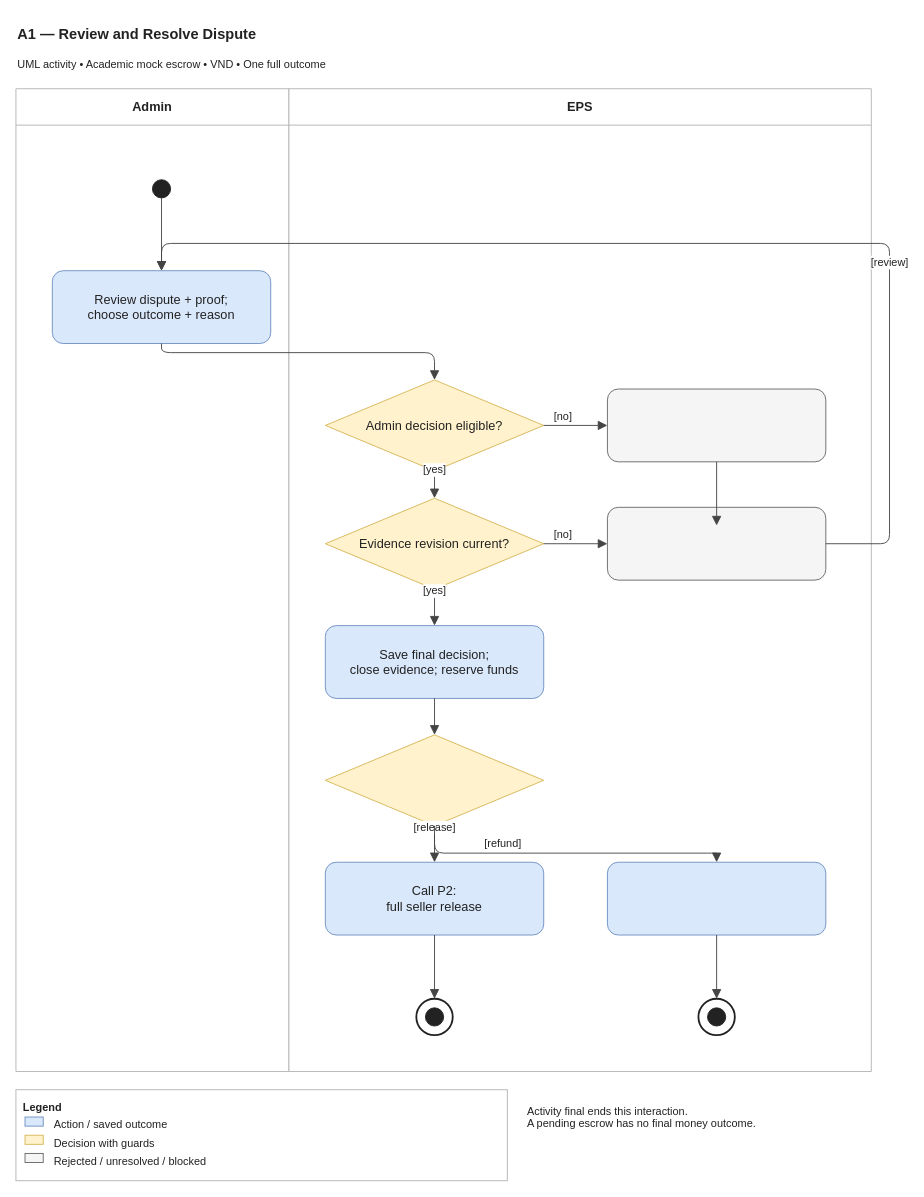
Some shapes in this 924 by 1197 pixel diagram are drawn without their labels. The centre of each missing label's shape, as x and y in pixels:
Call P3: refund original source: the point at 716,898
Reject invalid / stale decision; reuse accepted result: the point at 716,425
Release or refund?: the point at 434,780
Show new evidence; require fresh review: the point at 716,543
